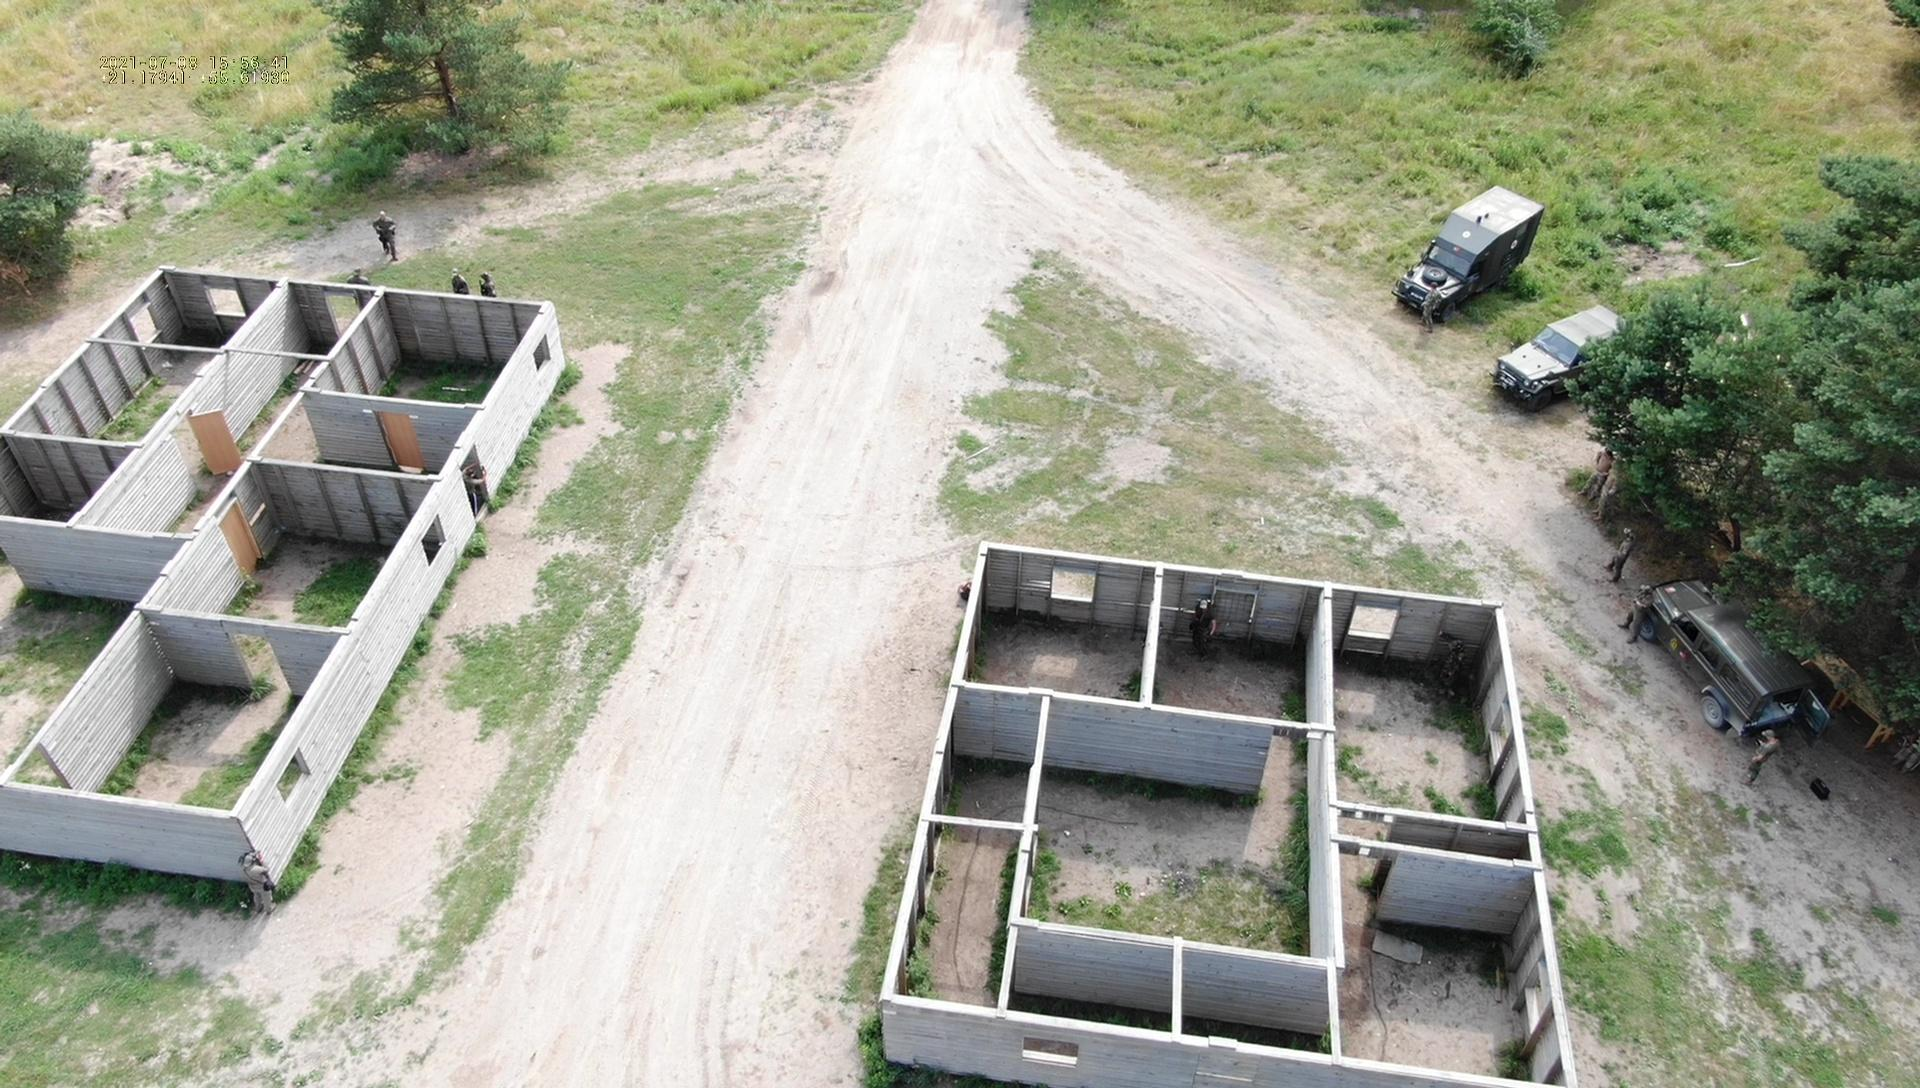Soldier: (1745, 719, 1785, 802), (1185, 596, 1228, 674), (1436, 628, 1470, 707), (1626, 584, 1667, 648), (1578, 443, 1617, 510), (365, 202, 406, 260), (1597, 456, 1623, 513), (1422, 281, 1448, 336), (444, 264, 473, 295)
